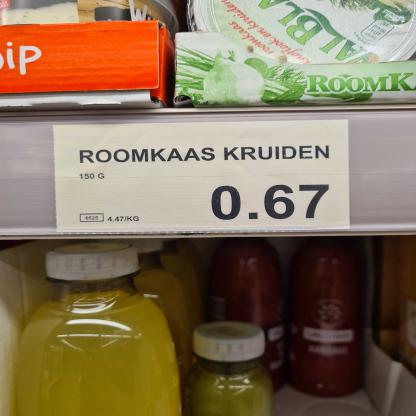prtg: (52, 121, 351, 233)
